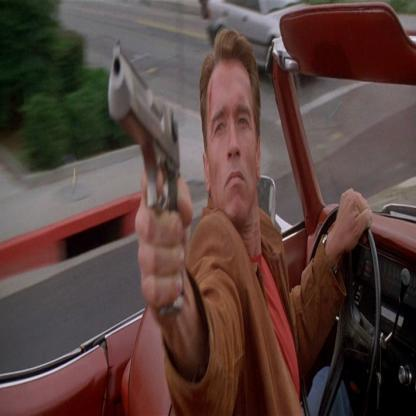gun: (108, 23, 190, 252)
